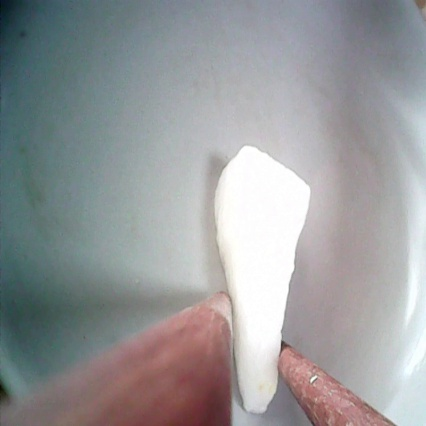white_chinese-yam: (211, 136, 314, 410), (209, 134, 312, 408)
